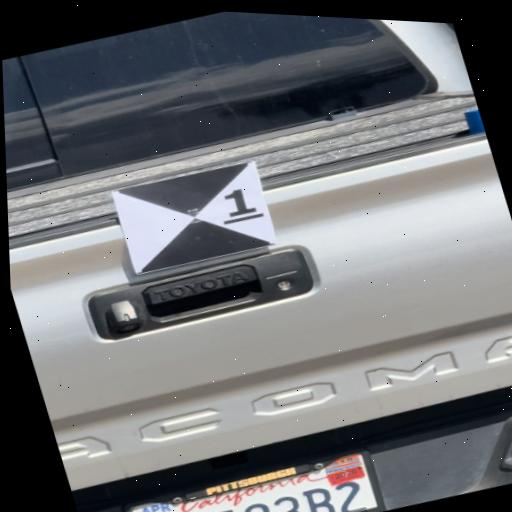target1: (111, 153, 276, 281)
